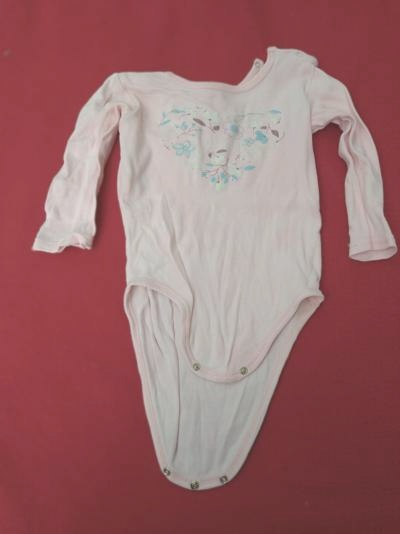Body: (13, 35, 392, 481)
